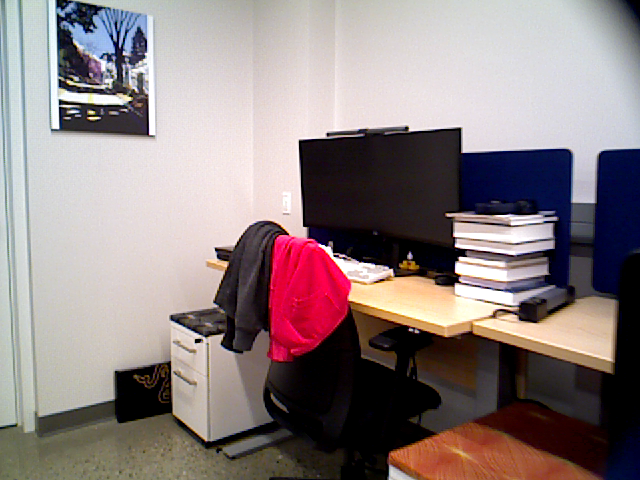painting3: (45, 1, 154, 136)
